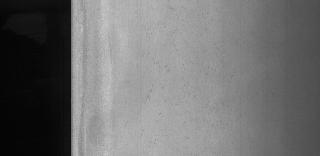silk spot: (136, 12, 200, 120)
